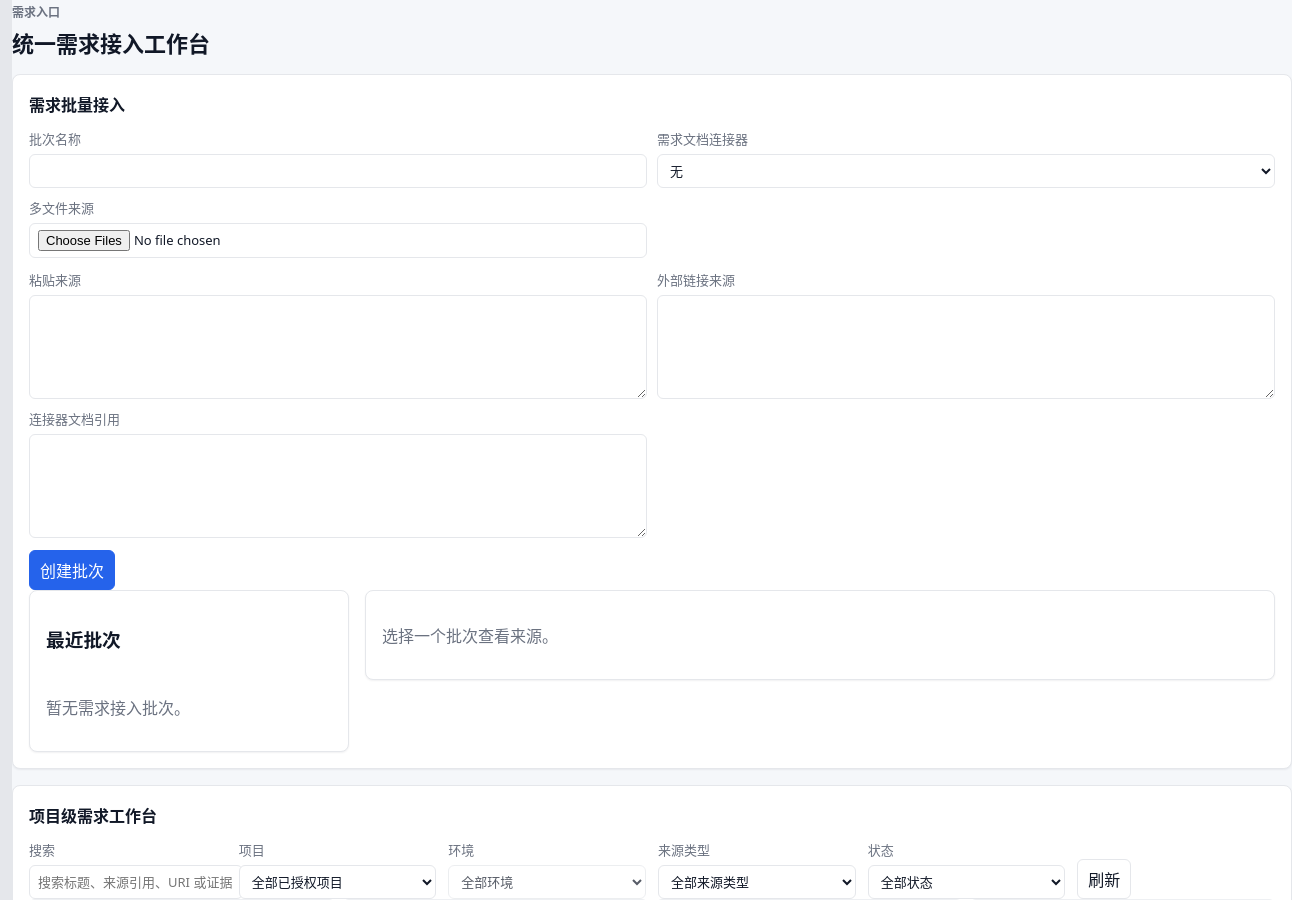
Test case: Community requirement intake workbench › creates an upload batch when files are the only selected source
Later steps or results of the test are not shown.
Step 1. Click the button "创建批次" → (72, 570), box [29,550,115,590]
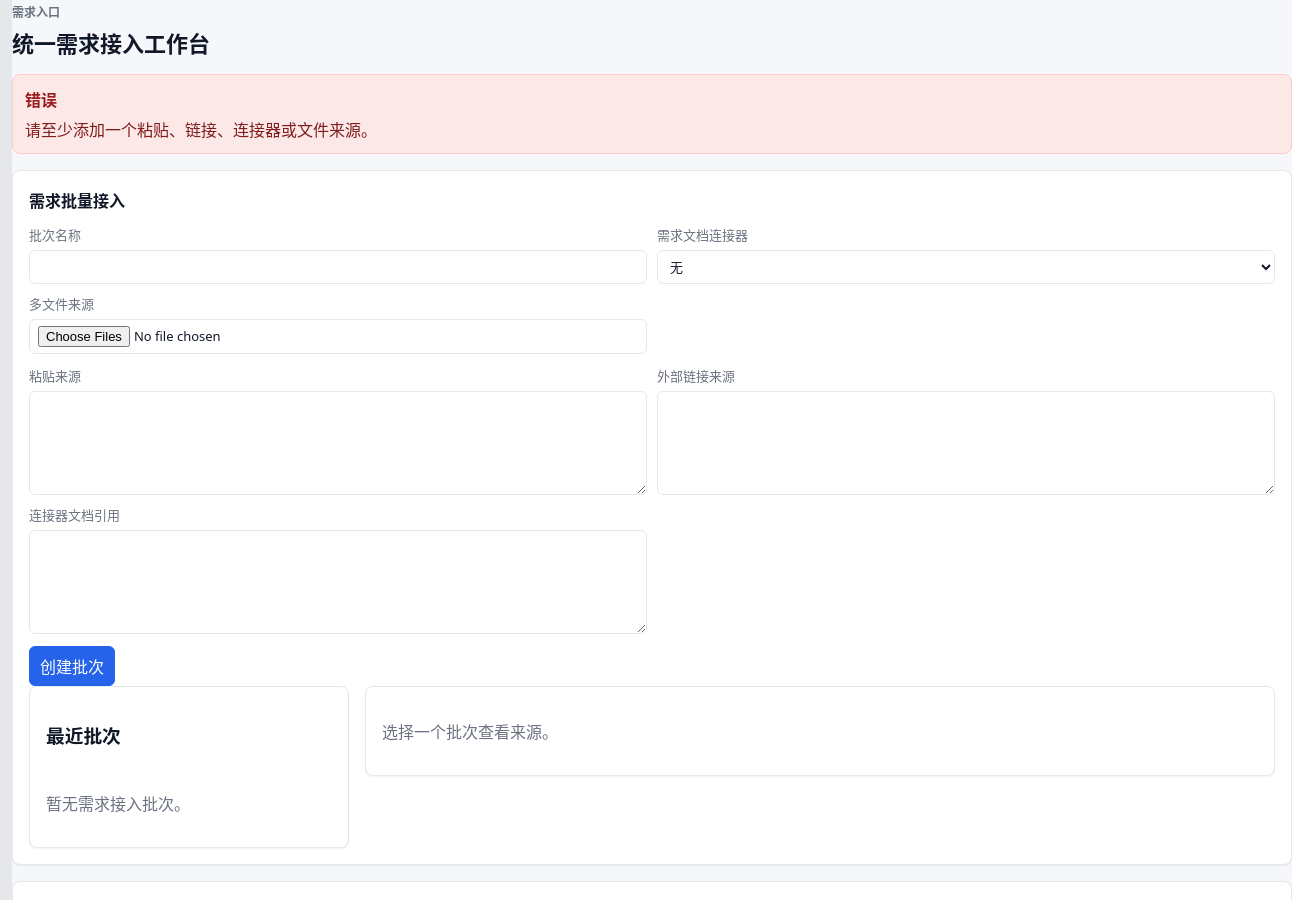
Expected: the button "创建批次" is enabled, [29,646,115,686]
Expected: the text "请至少添加一个粘贴、链接、连接器或文件来源。" is shown, [25,119,377,141]
